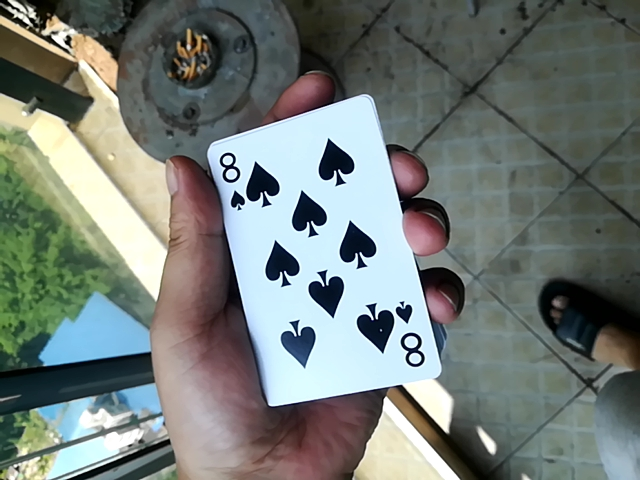ht 8: (193, 76, 440, 405)
